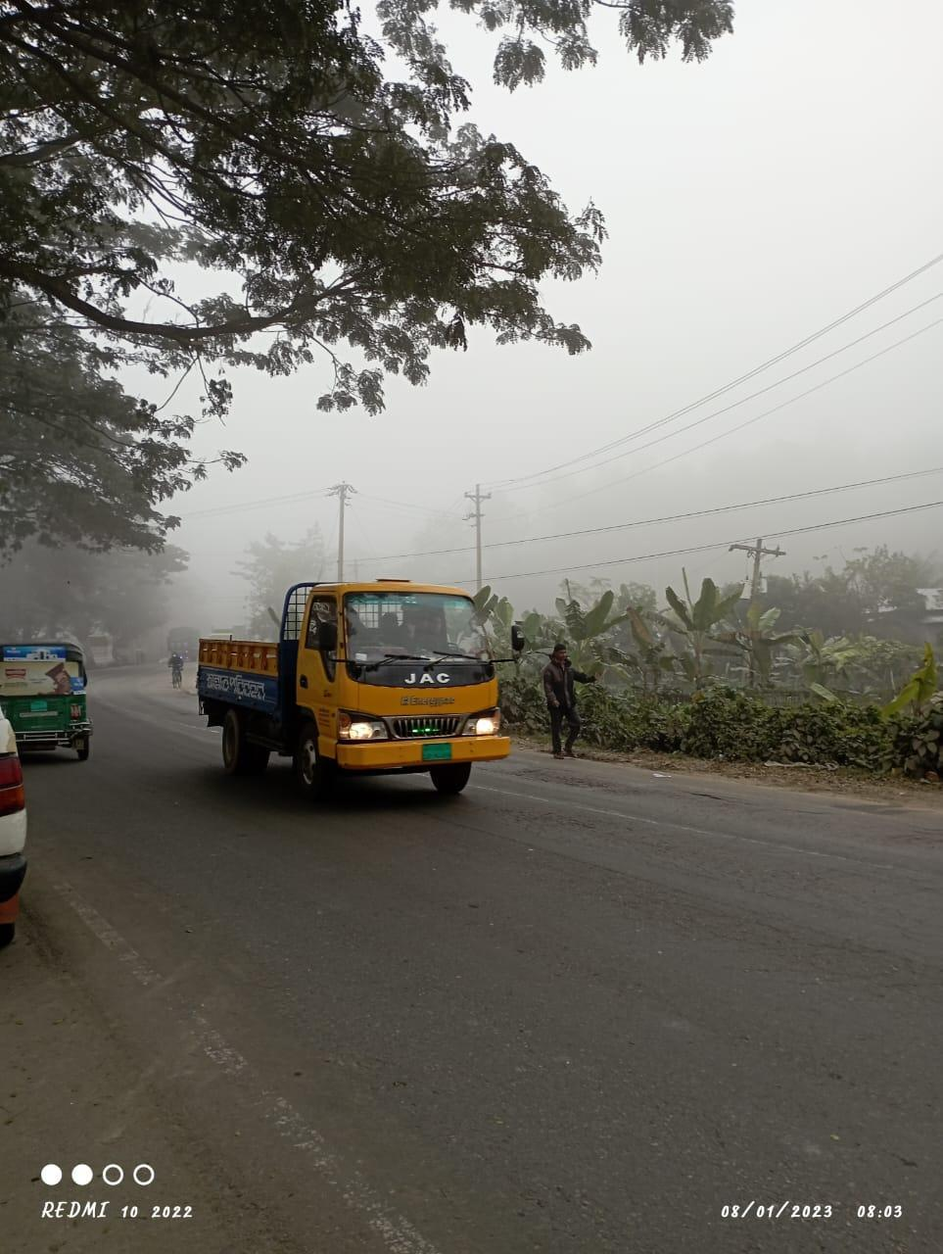Truck: (185, 556, 530, 824)
